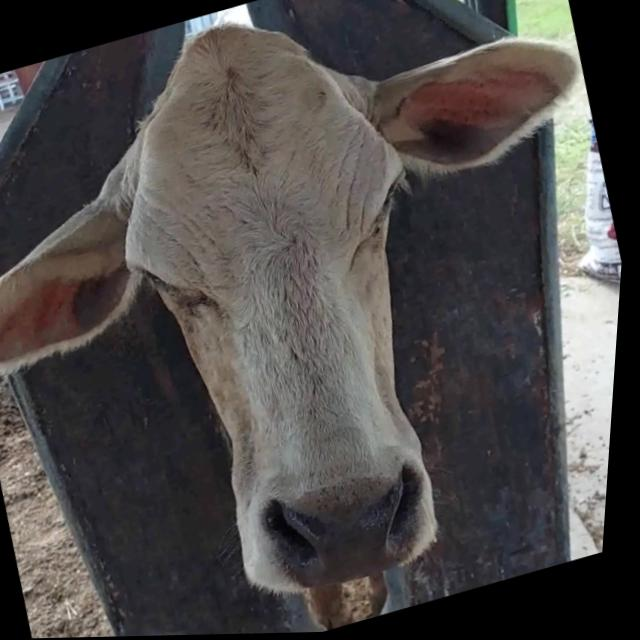cowFace: (59, 0, 518, 627)
